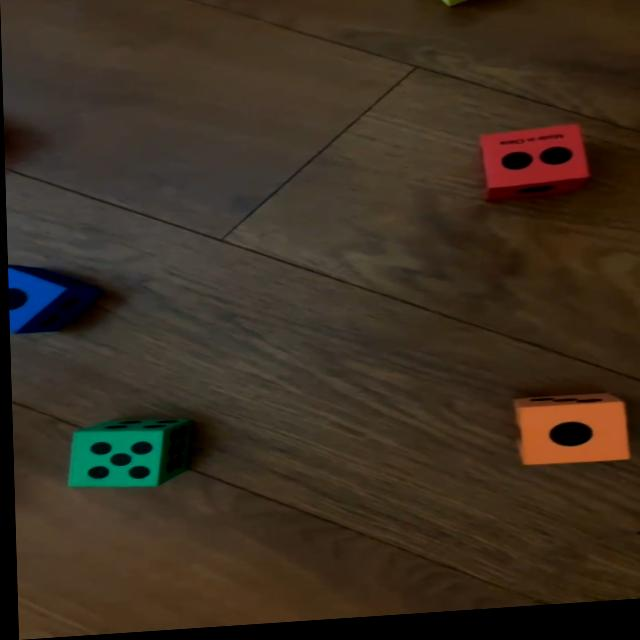blue_block: (6, 261, 96, 334)
red_block: (478, 131, 589, 207)
